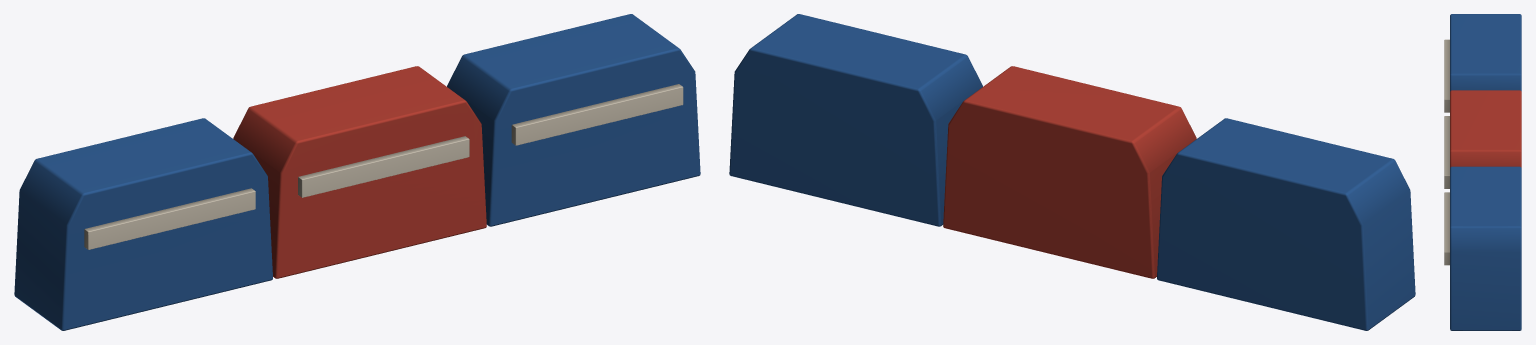
File: speedway_speedway_barrier.glb
3 views of the same model, side by side, from view 1: azimuth 30°, elevation 25°; view 2: azimuth 150°, elevation 25°; view 3: azimuth 270°, elevation 25° (orthographic). The views are drawn at different scales.
Visible parts, largest first — view 1: Track barrier; view 2: Track barrier; view 3: Track barrier.
Boxes of the visible parts, left/top/right/bottom form: Track barrier: left=14, top=14, right=700, bottom=330; Track barrier: left=729, top=14, right=1415, bottom=330; Track barrier: left=1444, top=14, right=1521, bottom=330.
Bounding box in the file's own units: 3.62 × 0.72 × 0.519.
